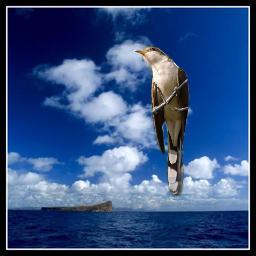Cuckoo: (134, 46, 190, 196)
